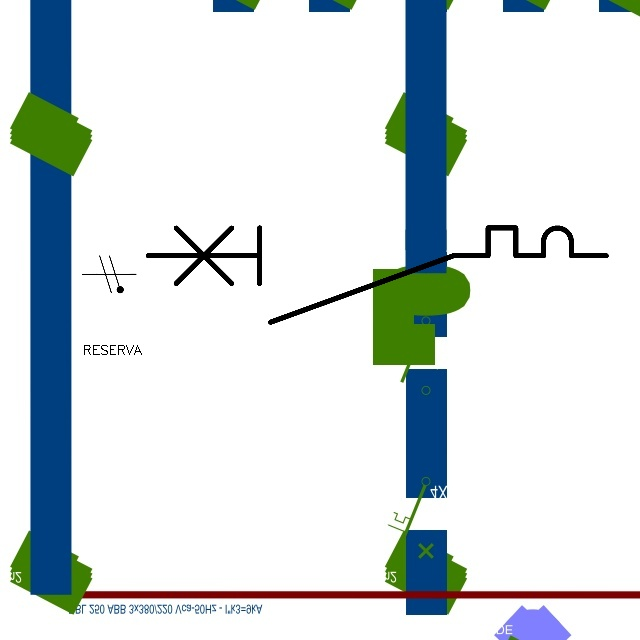interruptor_termomagnetico: (136, 216, 618, 334)
